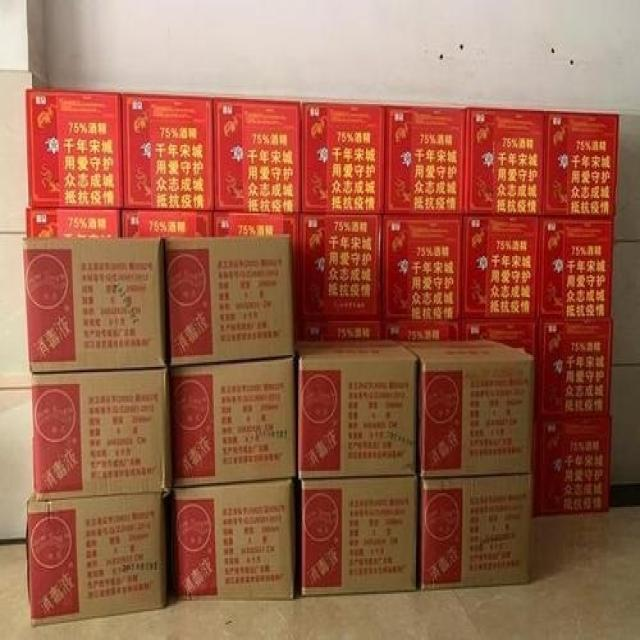box: (22, 236, 170, 373), (394, 334, 535, 473), (26, 492, 171, 627), (28, 365, 170, 497), (294, 339, 418, 479), (166, 237, 294, 365), (170, 357, 295, 488), (169, 477, 296, 601), (300, 475, 420, 598), (419, 474, 532, 589), (26, 92, 124, 210), (122, 93, 216, 210), (212, 98, 302, 216), (299, 100, 386, 212), (386, 105, 468, 214), (213, 210, 297, 316), (465, 105, 546, 212), (382, 213, 464, 318), (300, 212, 383, 315), (462, 214, 541, 317), (533, 410, 610, 513), (543, 110, 619, 214), (540, 216, 615, 316), (536, 316, 612, 413), (463, 314, 539, 358), (25, 205, 122, 236), (121, 209, 213, 232), (379, 315, 465, 336), (298, 314, 382, 335)
